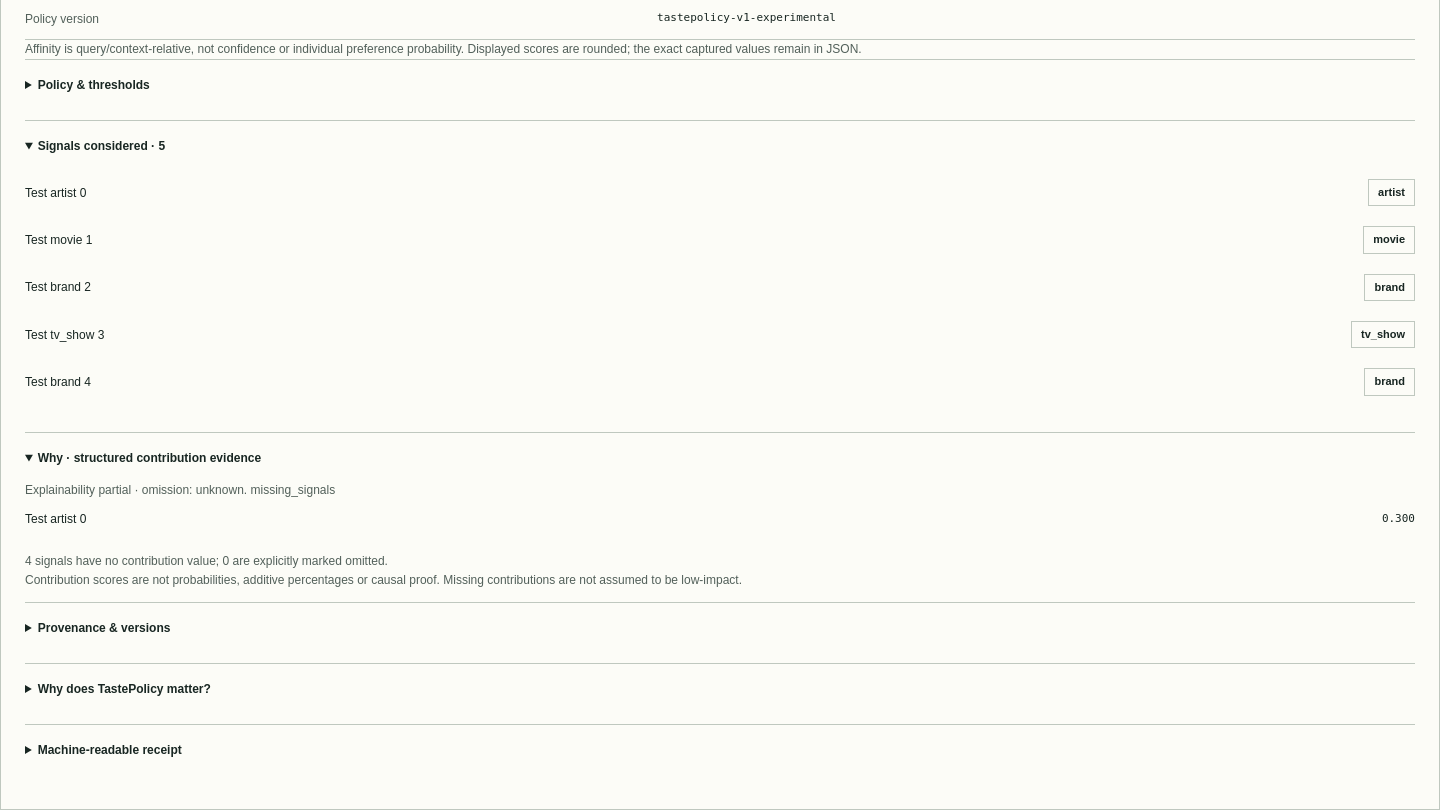
Test: labels live receipt provenance explicitly
(page scrolled)
What coordinates should you click on to do the following:
click the heading "Why does TastePolicy matter?"
I would click on:
 (124, 689)
Its box is [38,682,211,696].
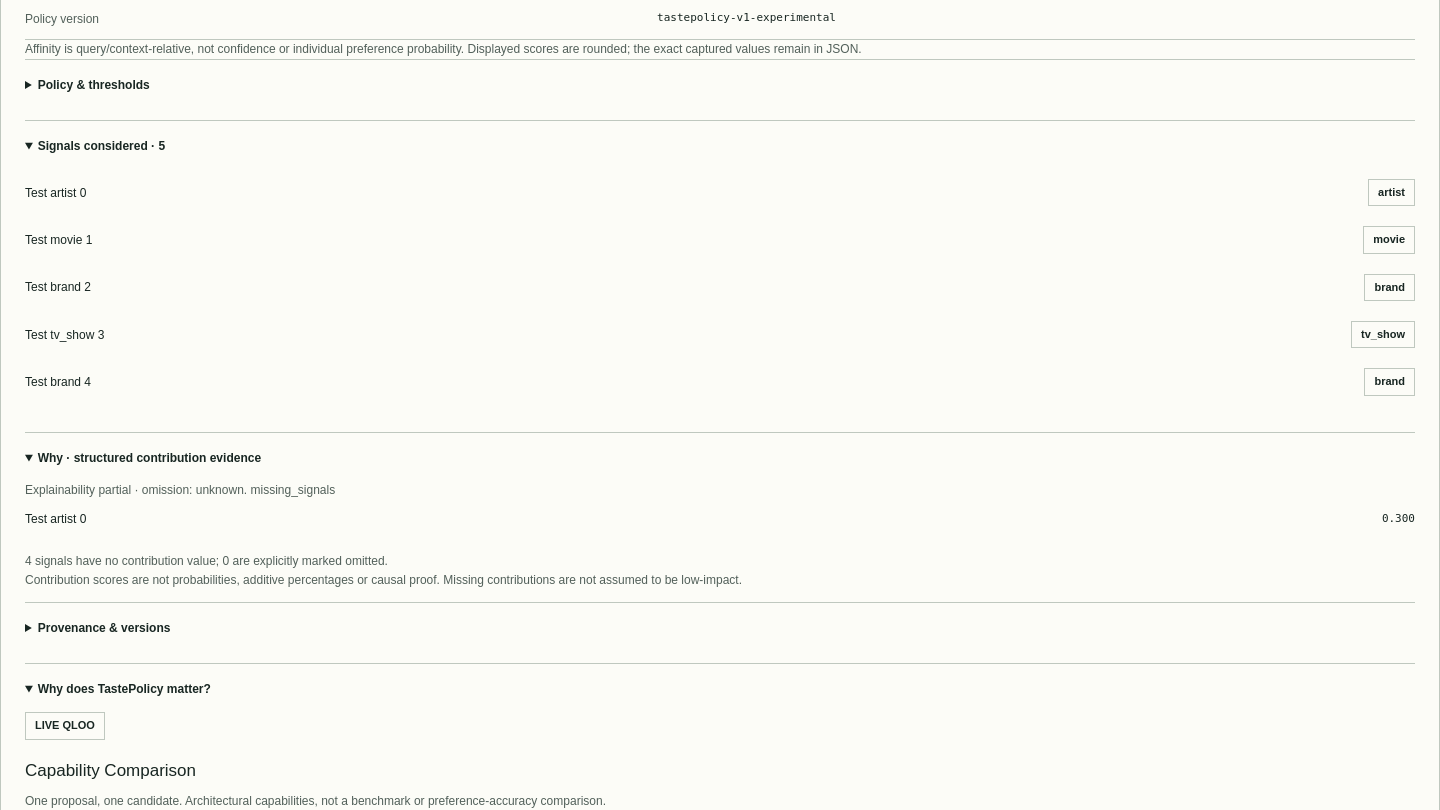
Check: the text "LIVE QLOO" is shown, box [25,712,105,740]
